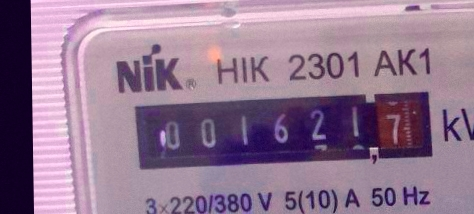0: (196, 113, 219, 151), (162, 116, 182, 150)
1: (347, 101, 362, 138), (236, 111, 251, 147)
2: (307, 106, 329, 142)
6: (270, 110, 290, 145)
7: (382, 109, 403, 146)
screen: (129, 88, 438, 174)
